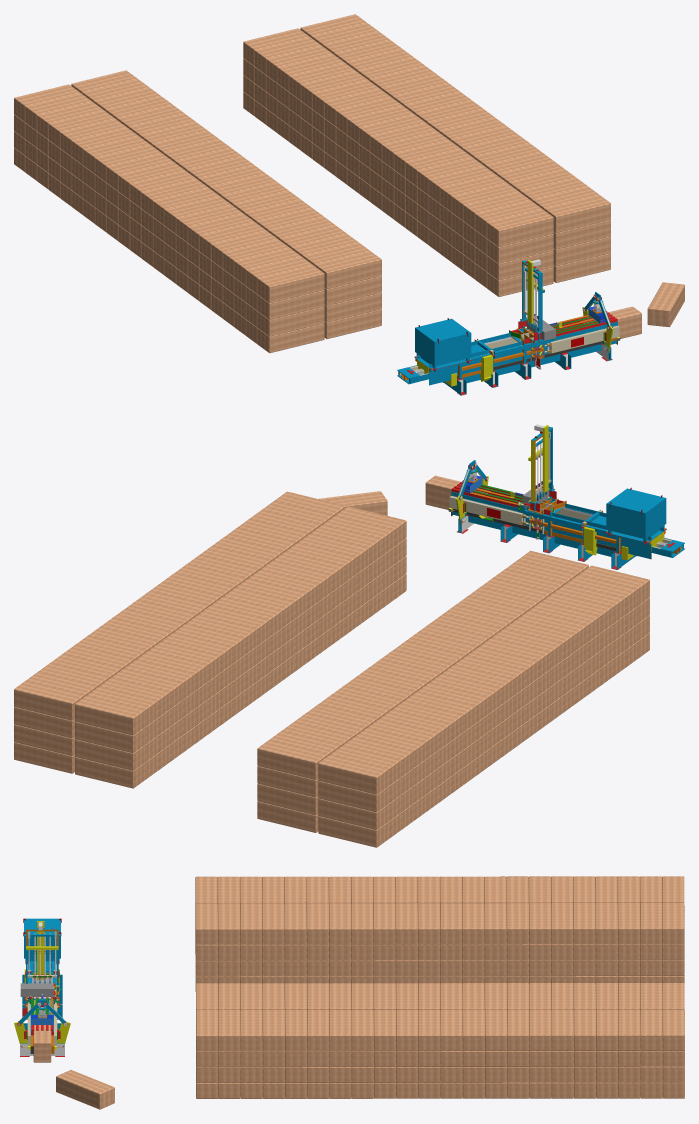
File: conjunto_1a60.glb
3 views of the same model, one above another, from view 1: azimuth 30°, elevation 25°; view 2: azimuth 150°, elevation 25°; view 3: azimuth 270°, elevation 25° (orthographic). The views are drawn at different scales.
Parts seen in each view (by area): view 1: Solid1.002, Solid1.001, Solid1.004, Solid1; view 2: Solid1.002, Solid1.001, Solid1.004, Solid1; view 3: Solid1.002, Solid1.001, Solid1.004, Solid1.
Boxes of the visible parts, x1=… form: Solid1.002: x1=14, y1=14, x2=610, y2=353; Solid1.001: x1=397, y1=259, x2=620, y2=395; Solid1.004: x1=647, y1=282, x2=684, y2=327; Solid1: x1=578, y1=306, x2=641, y2=338; Solid1.002: x1=14, y1=491, x2=649, y2=847; Solid1.001: x1=448, y1=424, x2=684, y2=569; Solid1.004: x1=319, y1=491, x2=387, y2=515; Solid1: x1=425, y1=475, x2=491, y2=509; Solid1.002: x1=195, y1=876, x2=684, y2=1098; Solid1.001: x1=14, y1=918, x2=70, y2=1056; Solid1.004: x1=56, y1=1070, x2=114, y2=1109; Solid1: x1=33, y1=1025, x2=51, y2=1062.
Bounding box in the file's own units: 0.241 × 0.0678 × 0.4026.
Materials: 42 (3 with a texture image).
